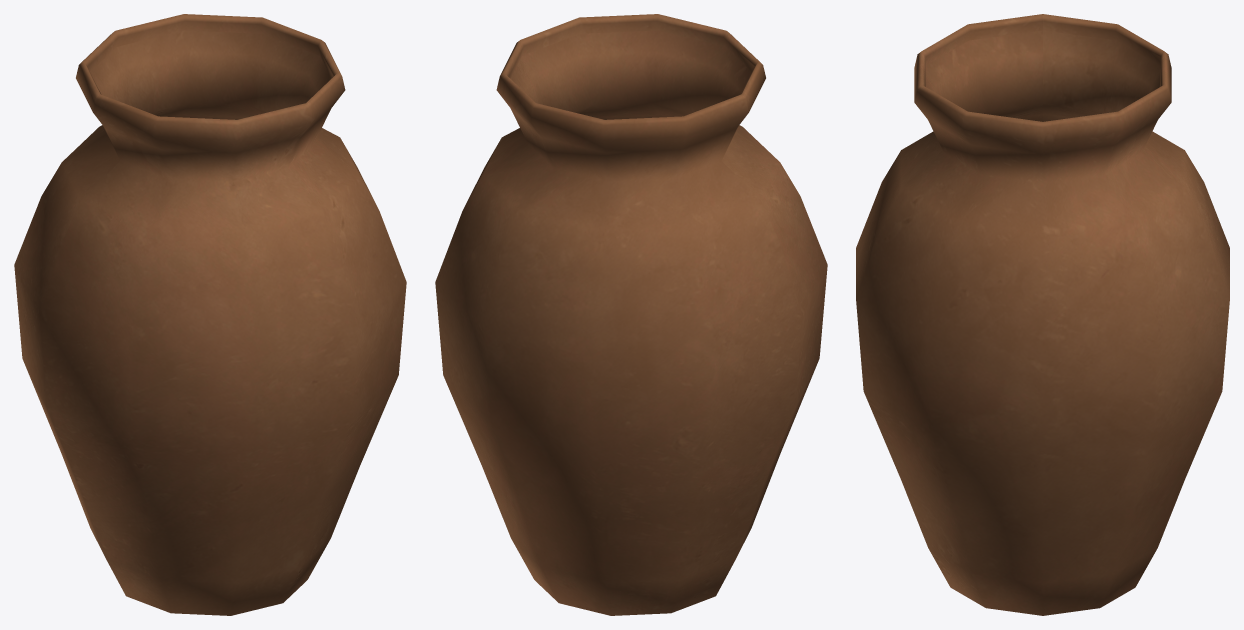
Rendered from PotteryJar1.fbx.
3 views of the same model, side by side, from view 1: azimuth 30°, elevation 25°; view 2: azimuth 150°, elevation 25°; view 3: azimuth 270°, elevation 25° (orthographic).
Visible parts, largest first — view 1: PotteryJar1_; view 2: PotteryJar1_; view 3: PotteryJar1_.
Part boxes in pixels (x1,y1,x2,y2): PotteryJar1_: (14, 14, 406, 615); PotteryJar1_: (435, 14, 827, 615); PotteryJar1_: (856, 14, 1229, 615).
Bounding box in the file's own units: 14.21 × 20.3 × 13.51.
